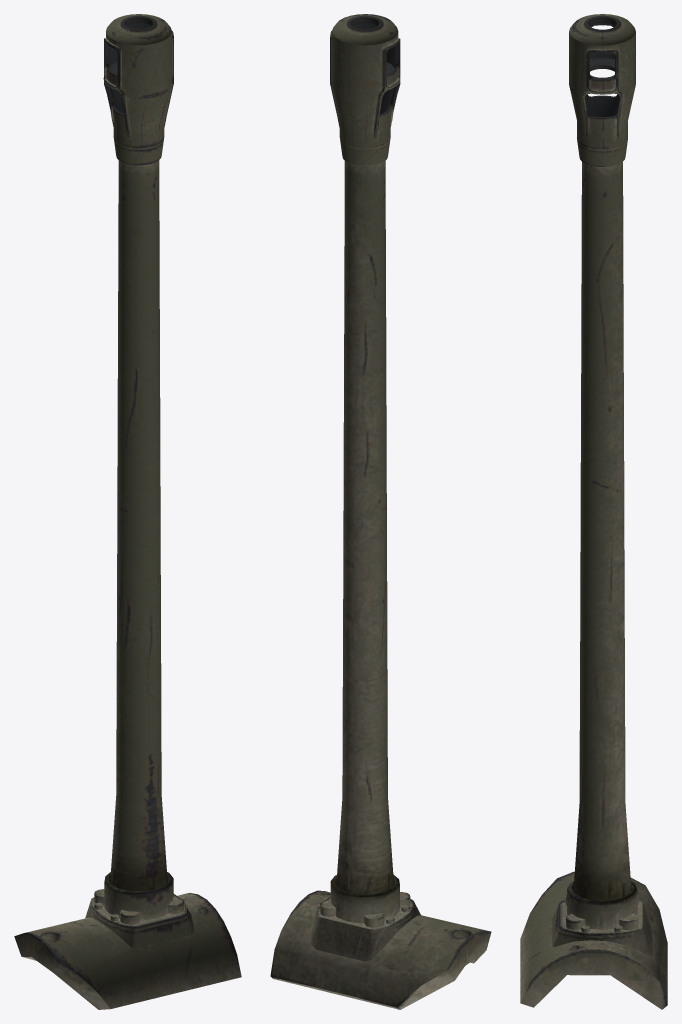
Rendered from Gun_01.glb.
3 renders of one model, left to right at view 1: azimuth 30°, elevation 25°; view 2: azimuth 150°, elevation 25°; view 3: azimuth 270°, elevation 25°, orthographic.
Parts seen in each view (by area): view 1: set_0_group_0; view 2: set_0_group_0; view 3: set_0_group_0.
Boxes of the visible parts, bbox=[...] form: set_0_group_0: bbox=[14, 14, 241, 1009]; set_0_group_0: bbox=[270, 14, 491, 1009]; set_0_group_0: bbox=[520, 14, 667, 1009].
Size of the model in its own units: 0.8031 by 4.38 by 0.6119.
1 material, 1 textured.
